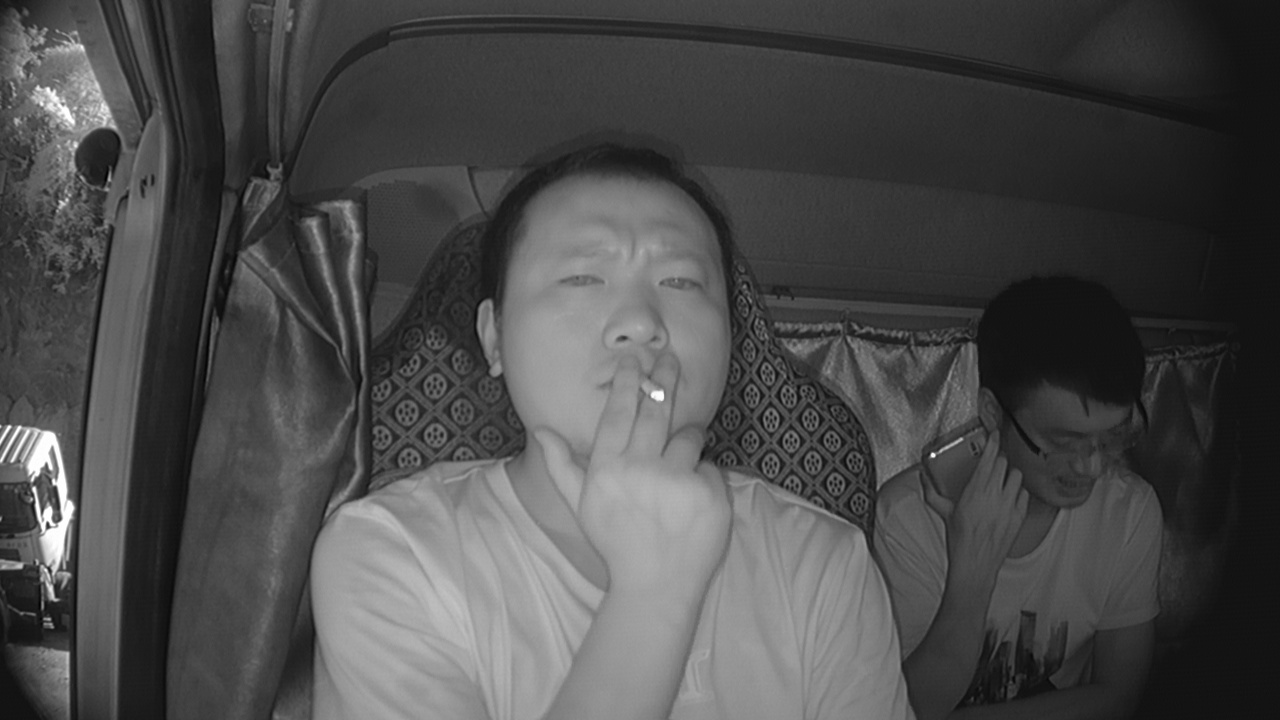hand: (578, 356, 718, 529)
